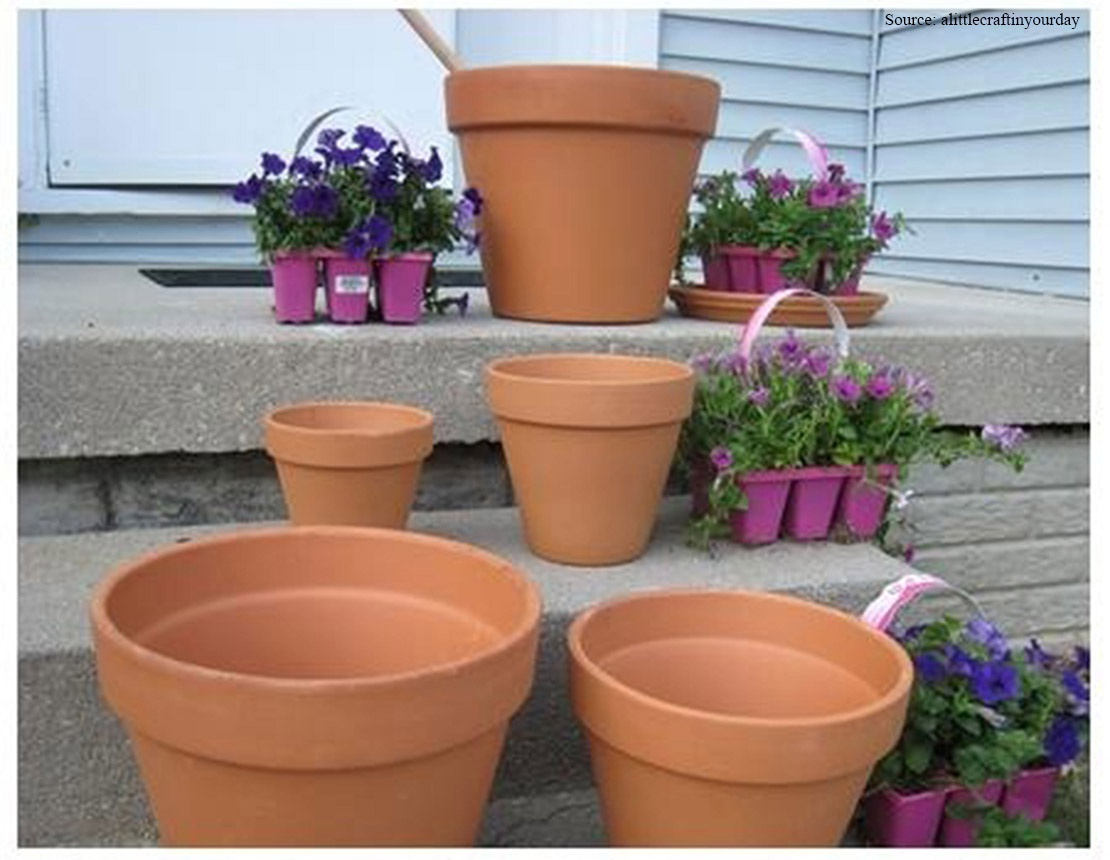flowerpot: (85, 532, 535, 860), (570, 591, 915, 860), (444, 71, 722, 327), (482, 355, 699, 562), (269, 402, 429, 531)
